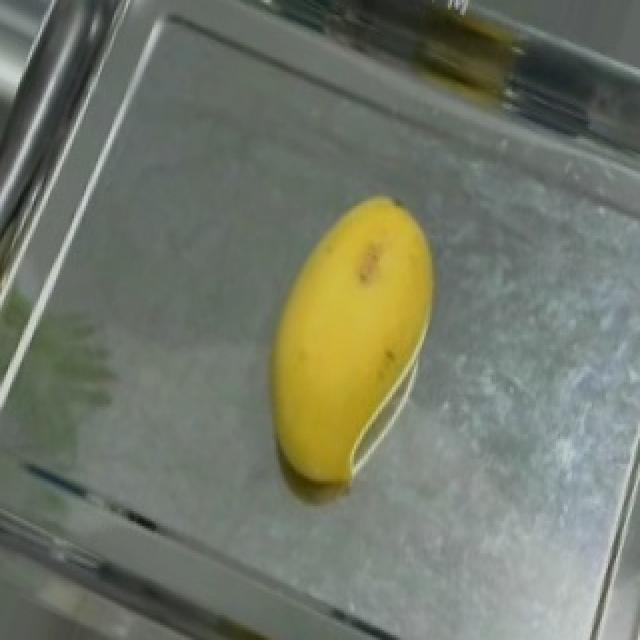fruit: (204, 156, 486, 518)
